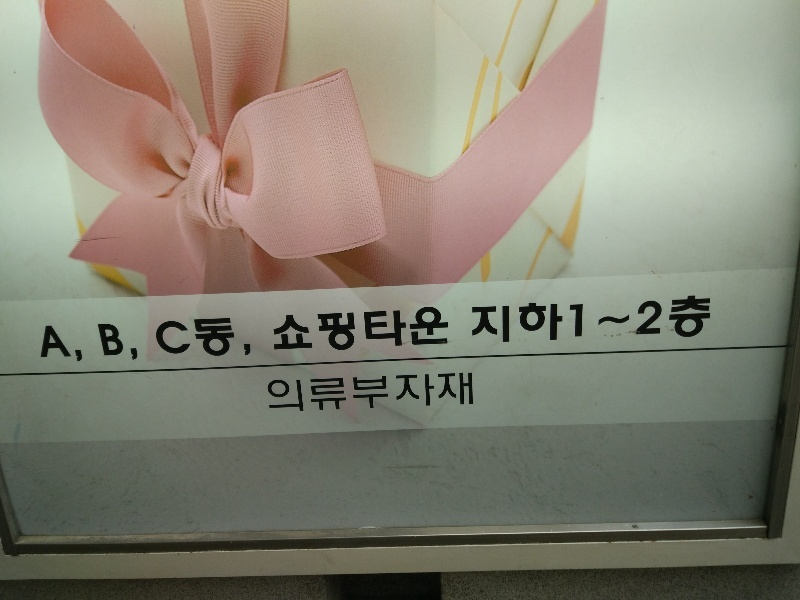text: (481, 284, 496, 355), (497, 284, 512, 355), (513, 284, 528, 355), (529, 284, 544, 355), (545, 284, 560, 355), (561, 284, 576, 355), (577, 284, 592, 355), (593, 284, 608, 355), (609, 284, 624, 355), (625, 284, 640, 355), (641, 284, 656, 355), (657, 284, 672, 355), (673, 284, 688, 355), (689, 284, 704, 355), (705, 284, 720, 355), (466, 284, 480, 355), (97, 308, 112, 373), (113, 308, 128, 373), (129, 308, 144, 373), (33, 313, 48, 375), (49, 313, 64, 375), (65, 313, 80, 375), (145, 305, 160, 366), (161, 305, 176, 366), (177, 305, 192, 366), (193, 305, 208, 366), (209, 305, 224, 366), (225, 305, 240, 366), (241, 305, 256, 366), (273, 298, 288, 359), (289, 298, 304, 359), (305, 298, 320, 359), (321, 298, 336, 359), (337, 298, 352, 359), (353, 298, 368, 359), (369, 298, 384, 359), (385, 298, 400, 359), (401, 298, 416, 359), (417, 298, 432, 359), (433, 298, 448, 359), (273, 367, 288, 424), (289, 367, 304, 424), (305, 367, 320, 424), (321, 367, 336, 424), (337, 367, 352, 424), (353, 367, 368, 424), (369, 367, 384, 424), (385, 367, 400, 424), (401, 367, 416, 424), (417, 367, 432, 424), (433, 367, 448, 424), (449, 367, 464, 424), (465, 367, 480, 424), (19, 313, 32, 375), (259, 367, 272, 424), (260, 298, 272, 359), (81, 313, 91, 375), (721, 284, 728, 355), (89, 308, 96, 373), (257, 305, 261, 366), (449, 298, 453, 359), (145, 308, 147, 373), (481, 367, 482, 424)
